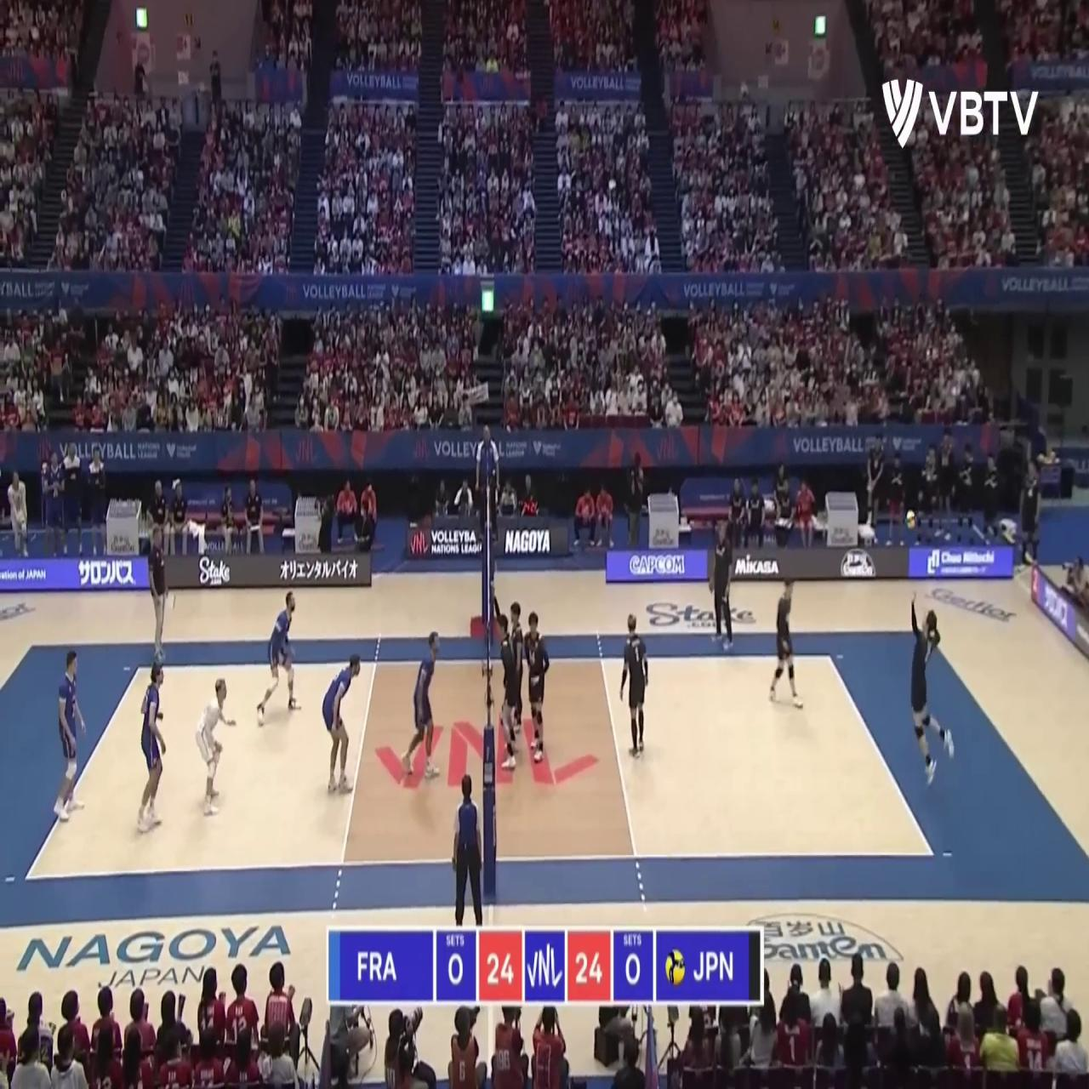ball: (906, 509, 916, 530)
